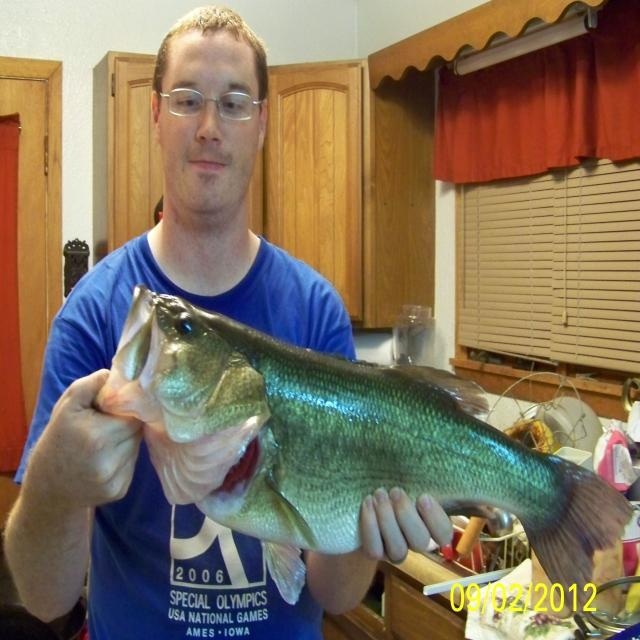Bass - Largemouth: (96, 285, 631, 609)
